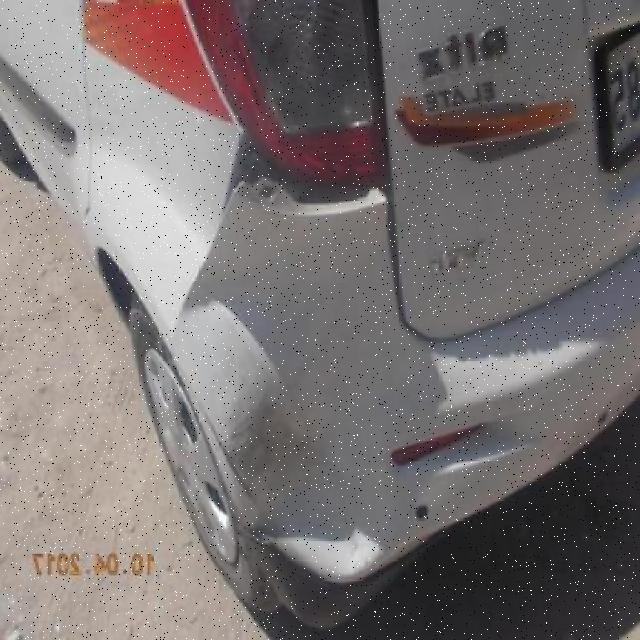damage: (211, 392, 381, 578), (168, 257, 271, 423), (219, 129, 388, 220)
